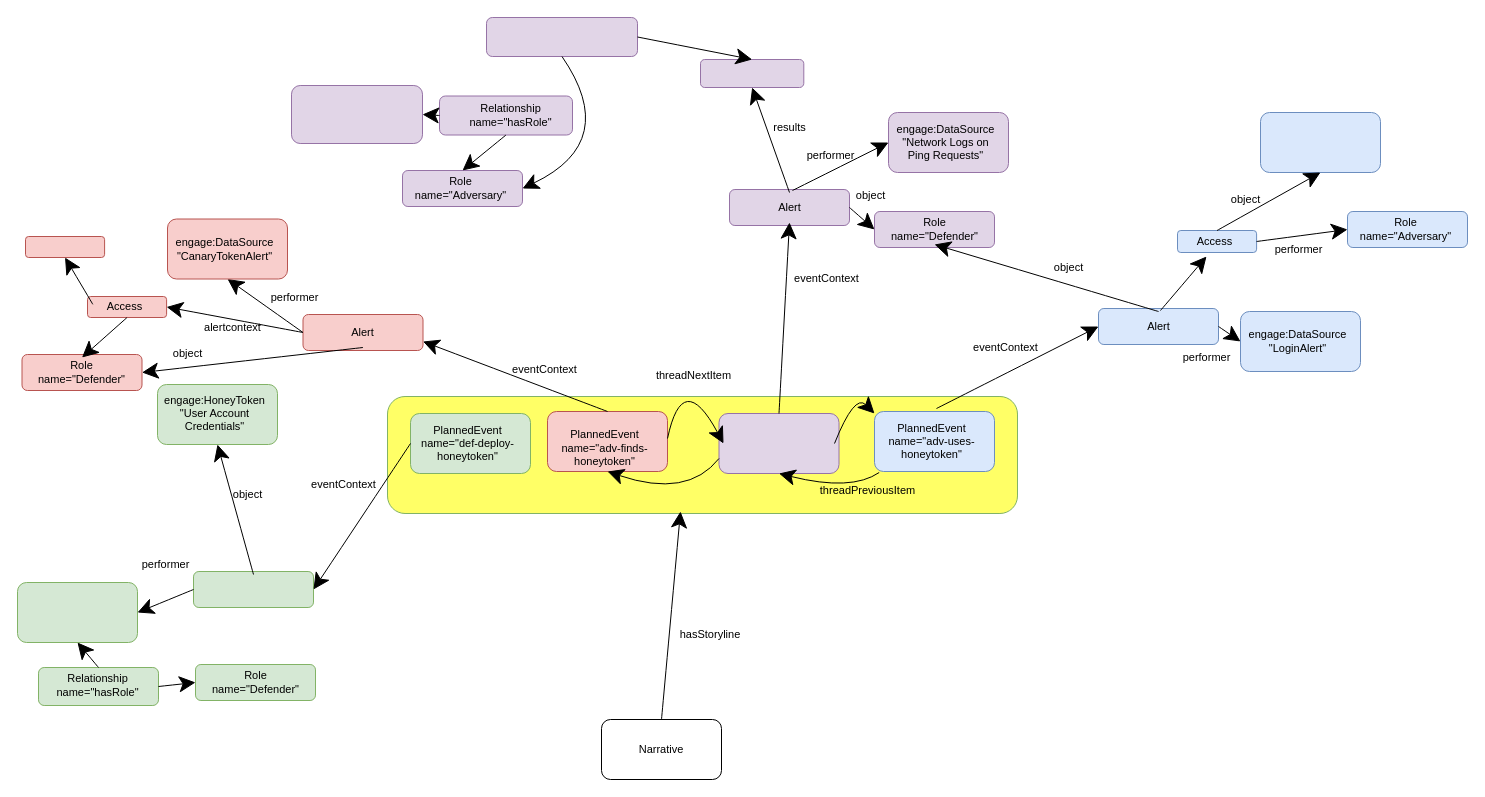
Image size: 1485x797. Some labels were removed from this diagram. Here are the shapes that lost their labels. From the top down, the centre of each, then its label:
pixel 562 36: Relationship name="hasKnownlP"
pixel 752 73: AdvIP
pixel 356 114: uco-identity:Identity "Bob Smith"
pixel 1320 142: engage:Honeypot "Windows XP"
pixel 64 247: File
pixel 778 443: PlannedEvent name="adv-scans-honeypot"
pixel 680 496: Storyline
pixel 253 589: Deploy
pixel 77 612: uco-identity:Identity "Mary Jane"
